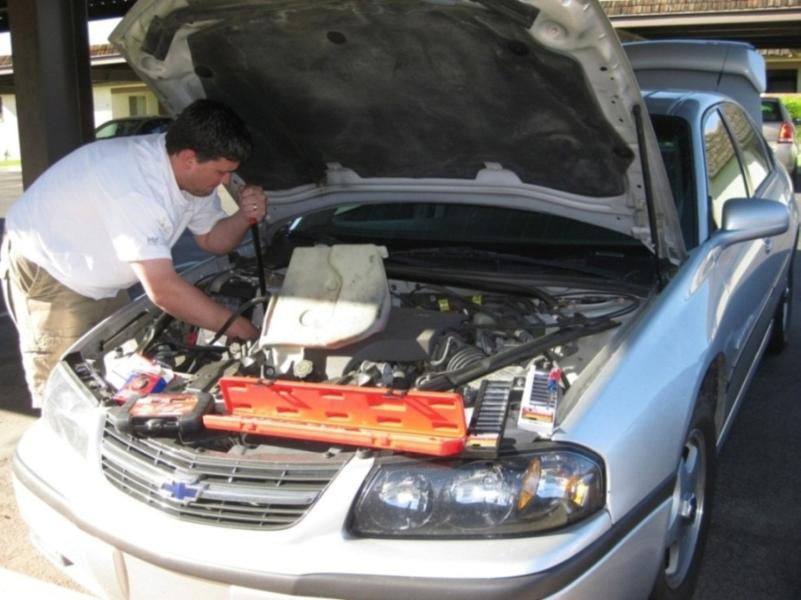person: (3, 96, 265, 415)
